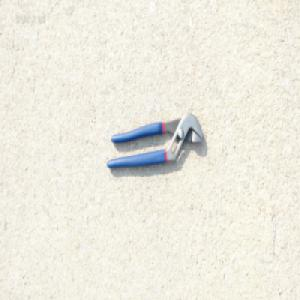Pliers: (105, 111, 204, 169)
